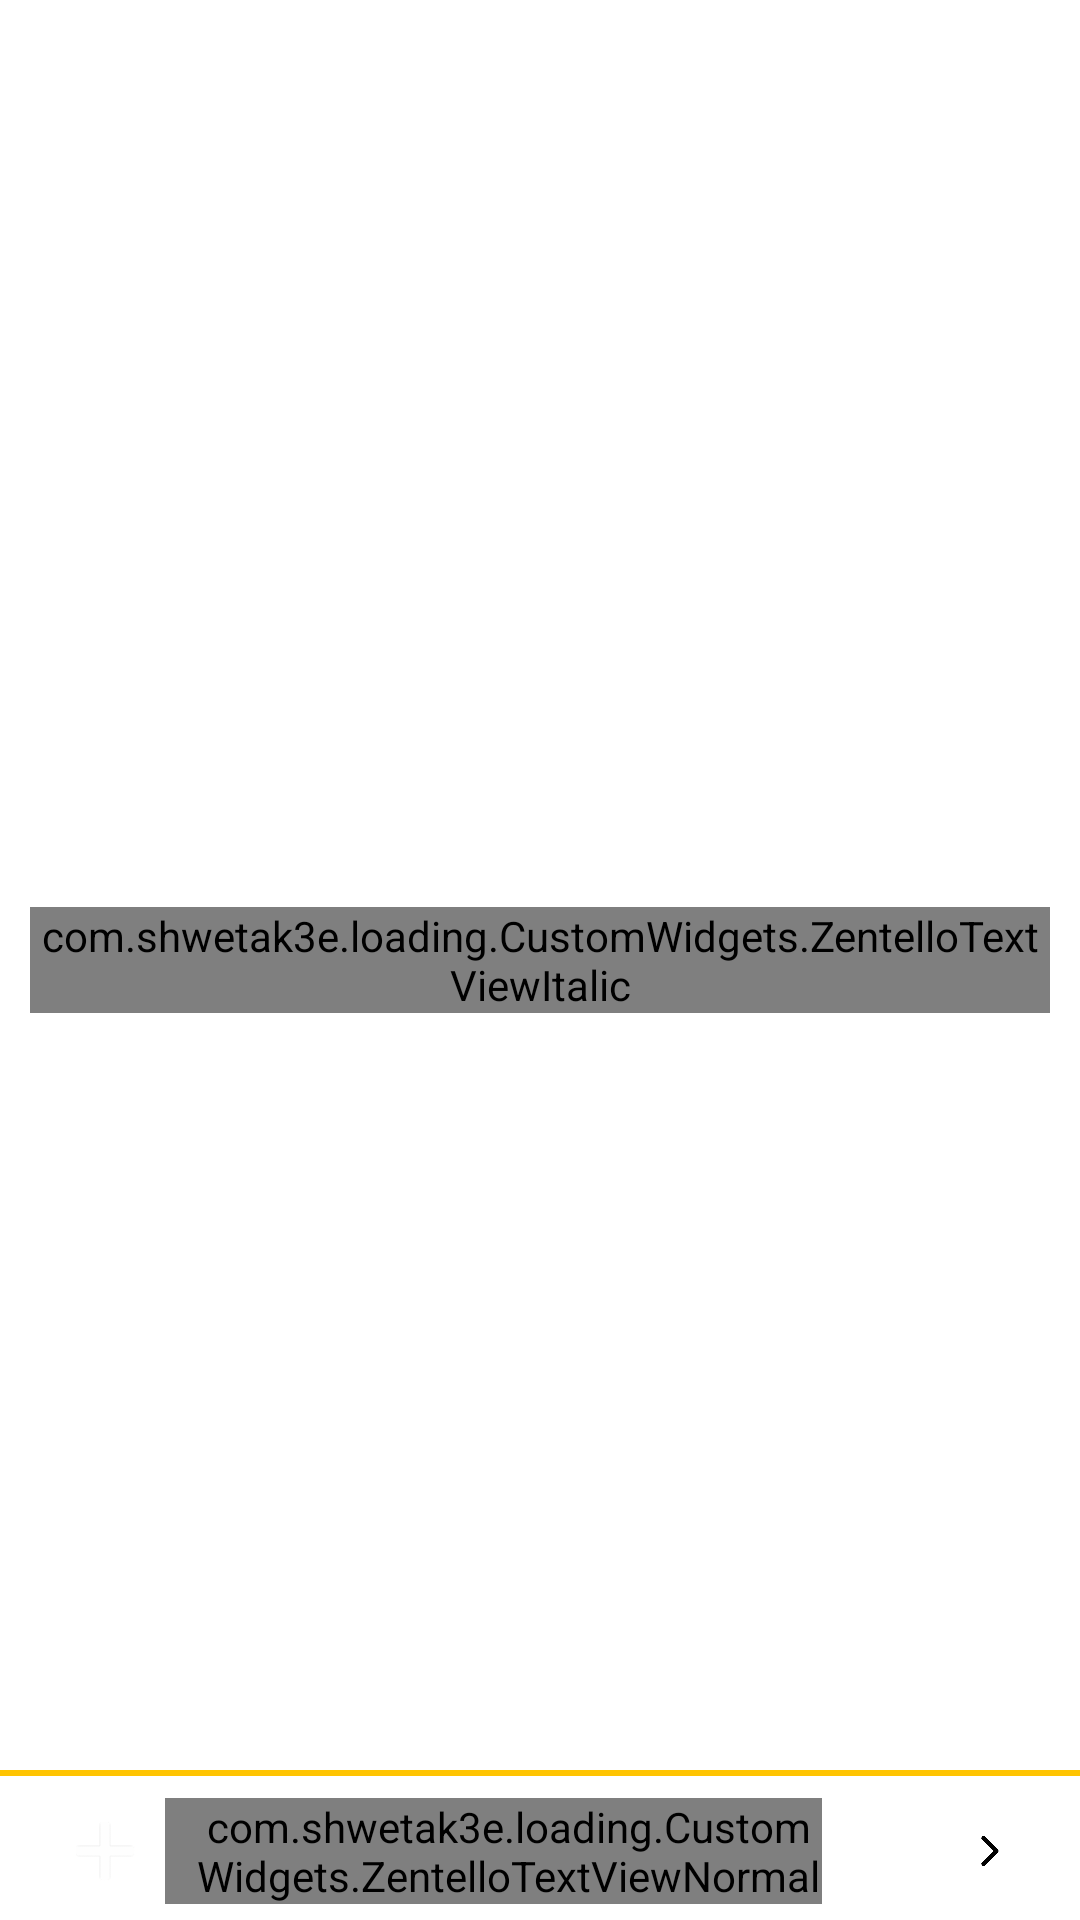

Icons on this 1080 x 1920 Android screen, each with the point to tap as (x,y):
forward arrow: (990,1851)
